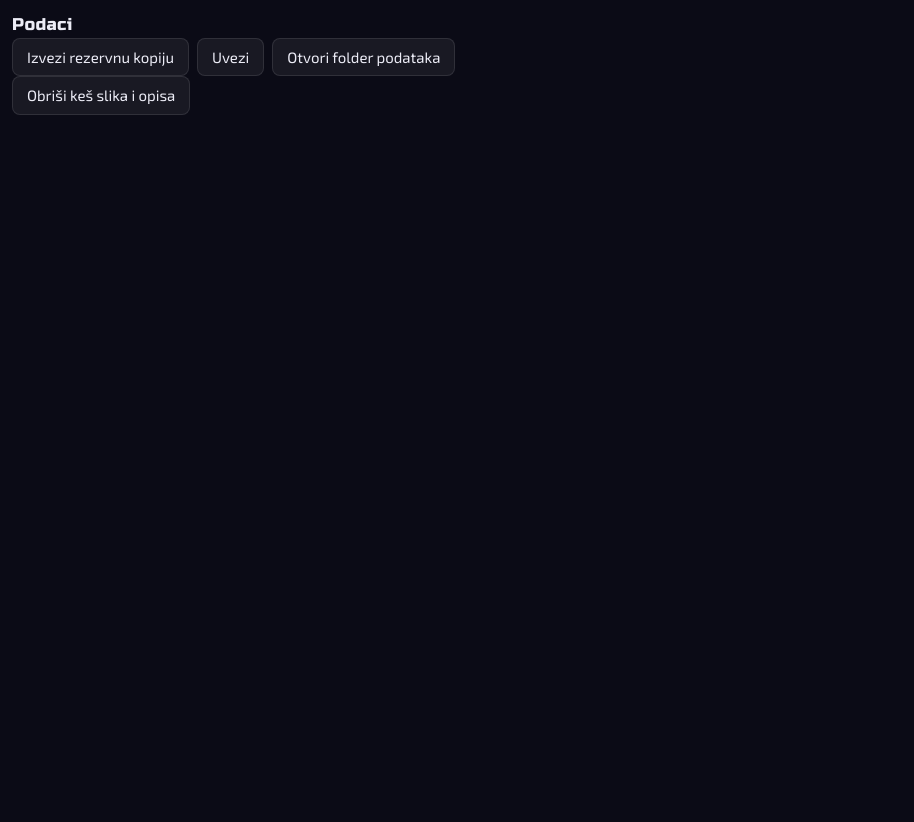
Test case: DataSection › export success shows a toast; canceled shows nothing
What coordinates should you click on to do the following:
click the button "Izvezi rezervnu kopiju"
I would click on:
 (100, 57)
Its box is [12, 38, 189, 76].
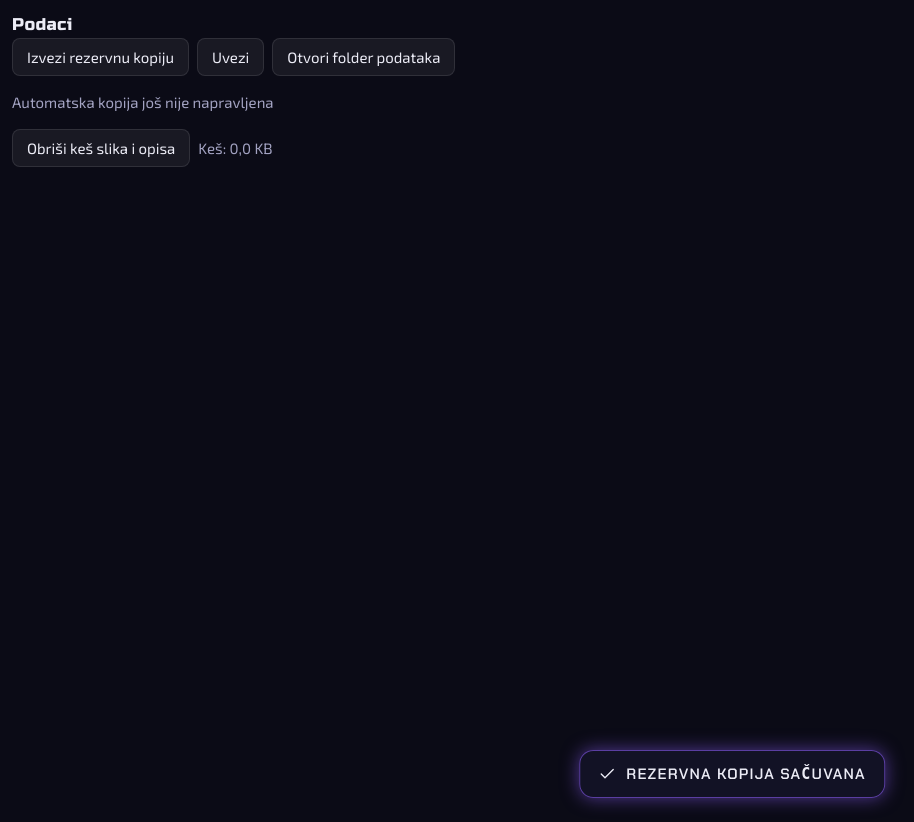
Expected: the text "Rezervna kopija sačuvana" is shown, [626, 762, 866, 785]
